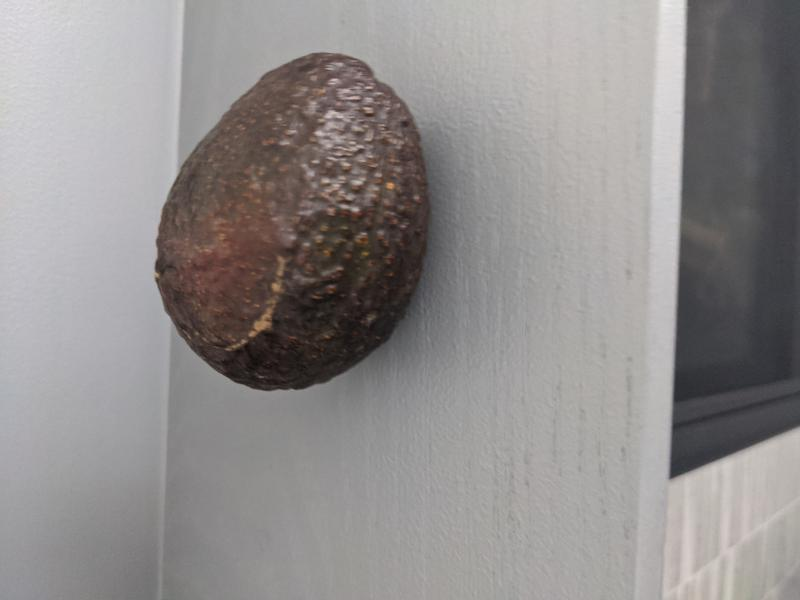avocado: (154, 52, 432, 393)
